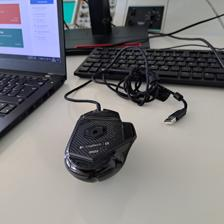mouse: (63, 107, 137, 183)
